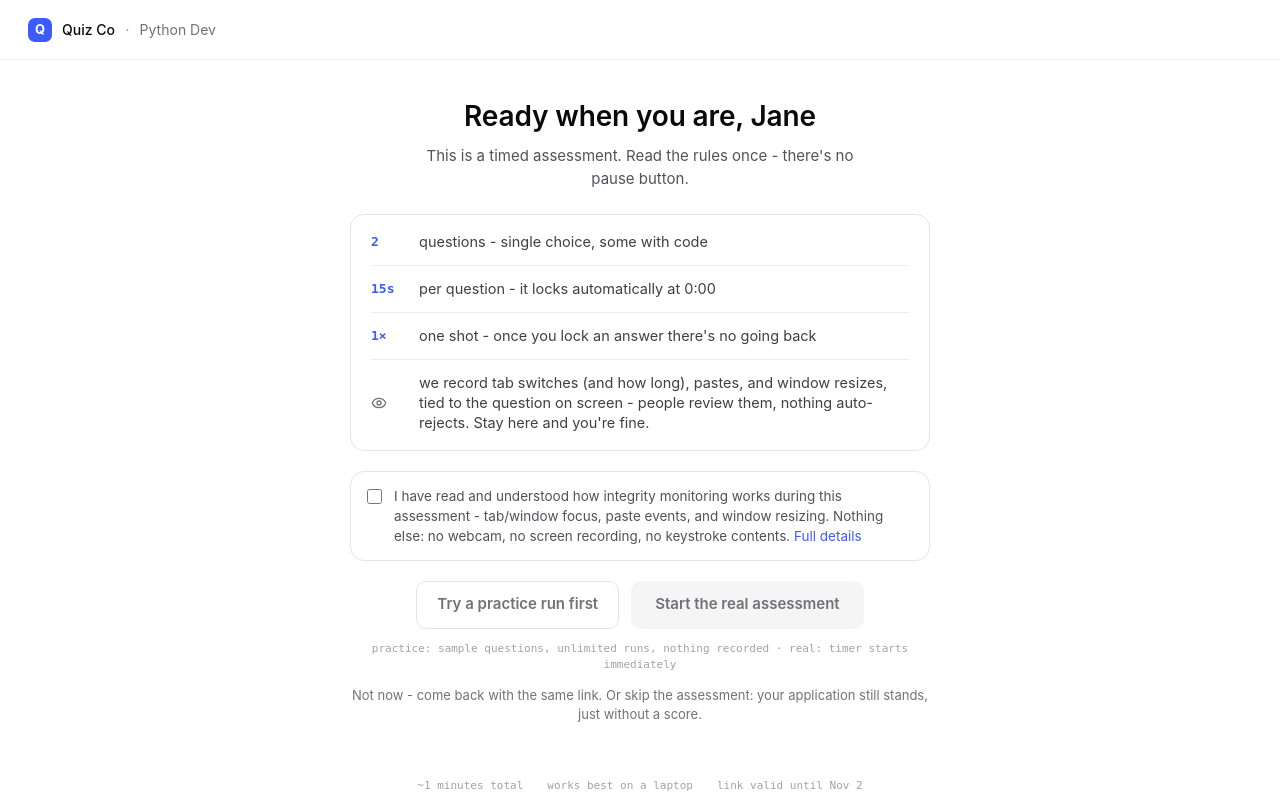
Test: QuizPage › says time ran out, then moves on, when the deadline passes unanswered
Click the checkbox.
click(374, 496)  # box x1=367 y1=489 x2=382 y2=504
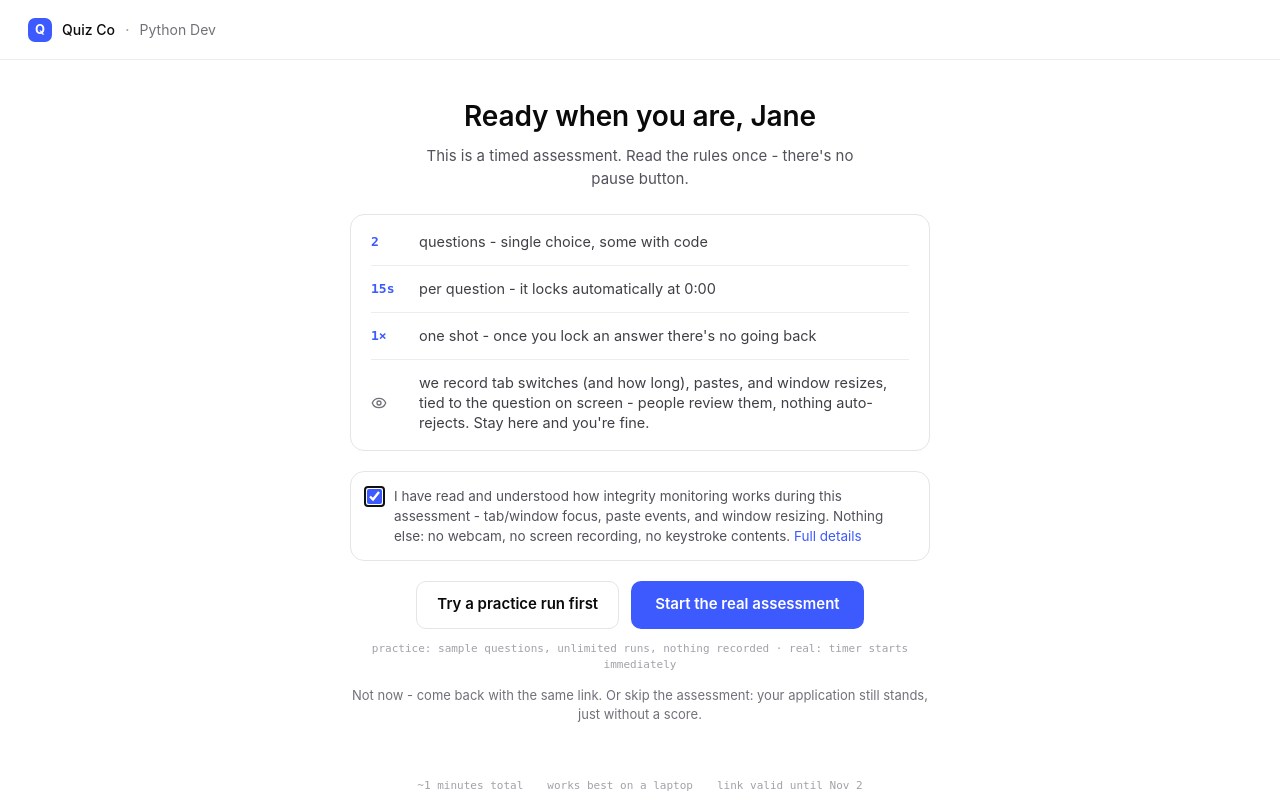
Click the button "Start the real assessment".
click(747, 605)  # box x1=631 y1=581 x2=864 y2=629
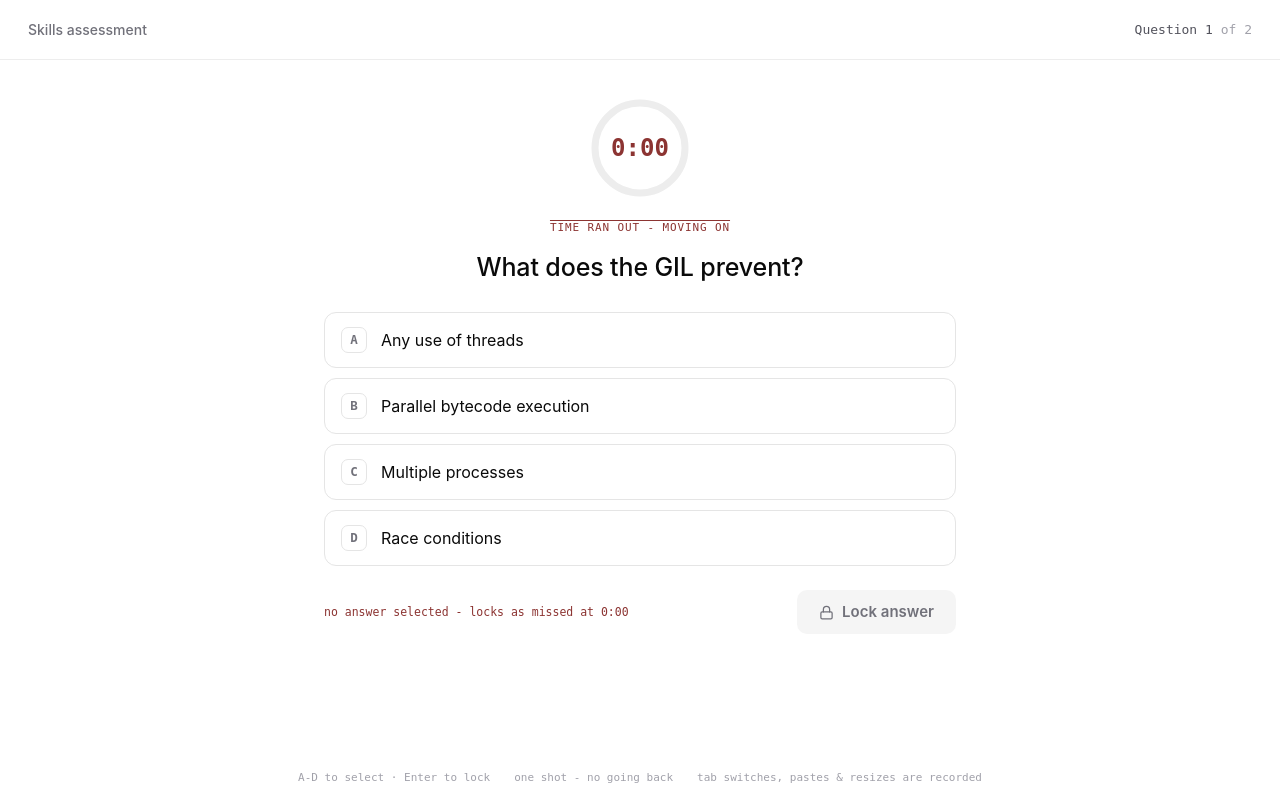
Expected: the message reads "Time ran out - moving on", x1=550 y1=221 x2=730 y2=234
Expected: the heading "What does the GIL prevent?" is shown, x1=476 y1=250 x2=804 y2=284
Click the button "C Multiple processes".
click(452, 472)  # box x1=324 y1=444 x2=956 y2=500
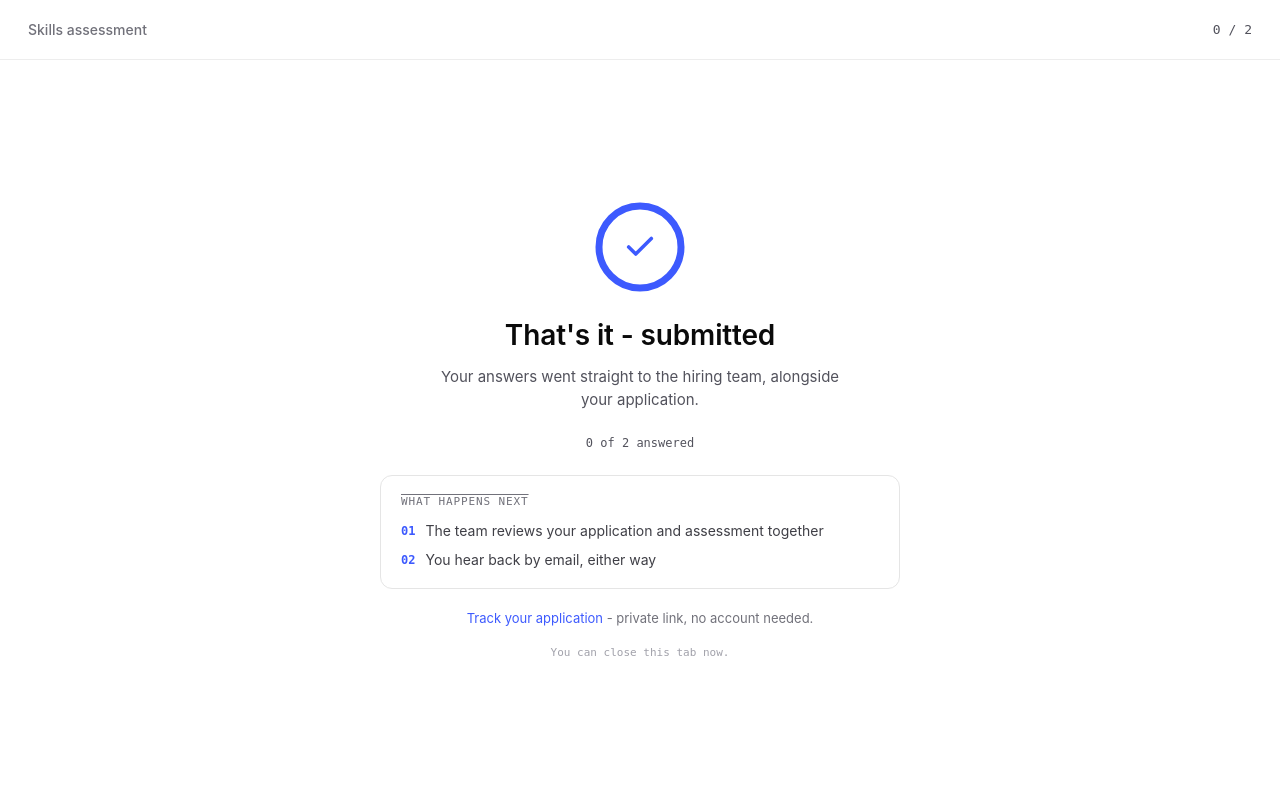
Expected: the heading "That's it - submitted" is shown, x1=505 y1=319 x2=775 y2=353
